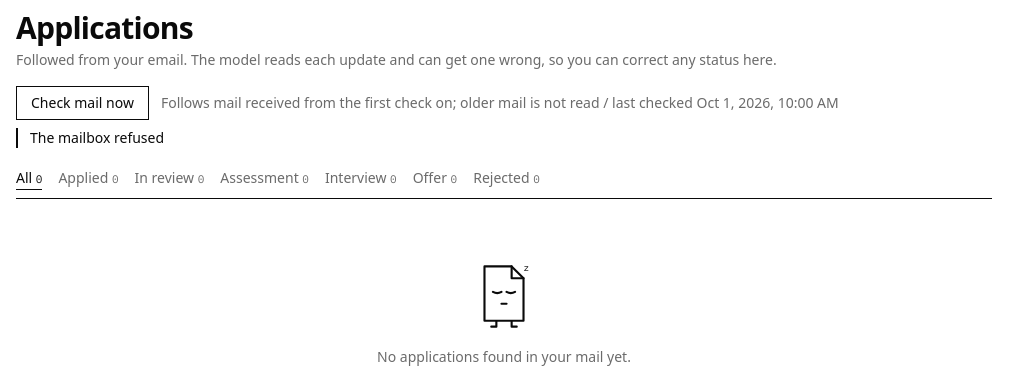
Applications › starts a sync and shows why the last one stopped
Check: the text "The mailbox refused" is shown, box x1=16 y1=128 x2=992 y2=148
Click the button "Check mail now" at (82, 103), box x1=16 y1=86 x2=149 y2=120
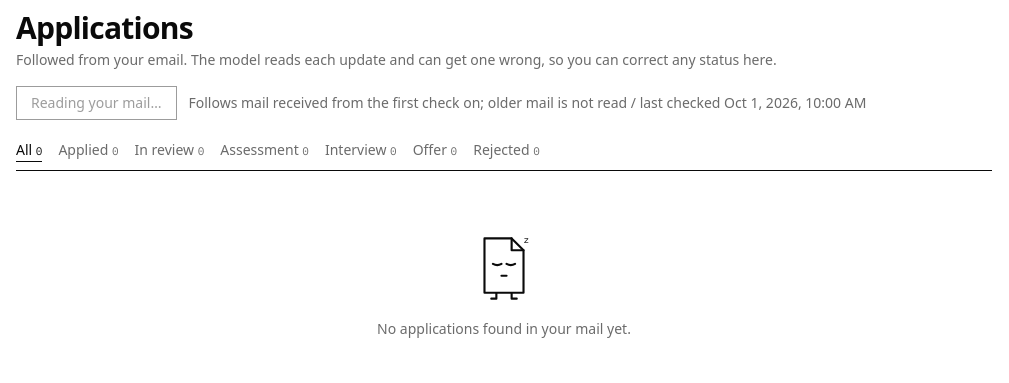
Check: the button "Reading your mail…" is disabled, box x1=16 y1=86 x2=176 y2=120
